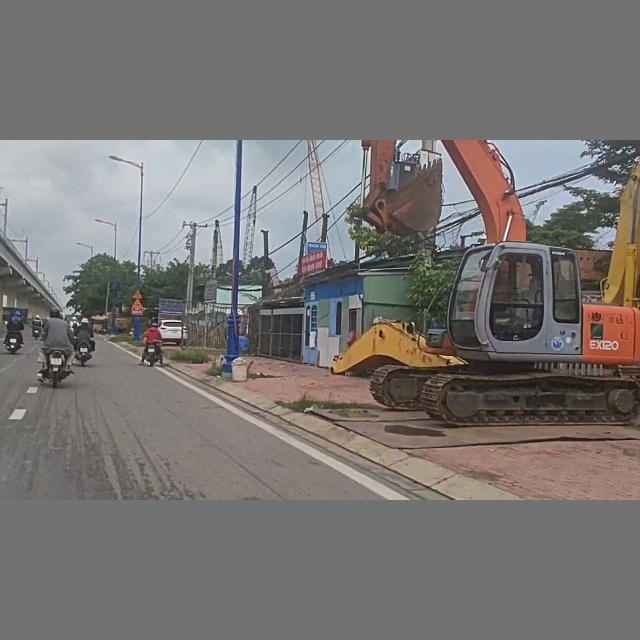W.203c: (132, 289, 144, 299)
W.245a: (131, 299, 144, 307)
